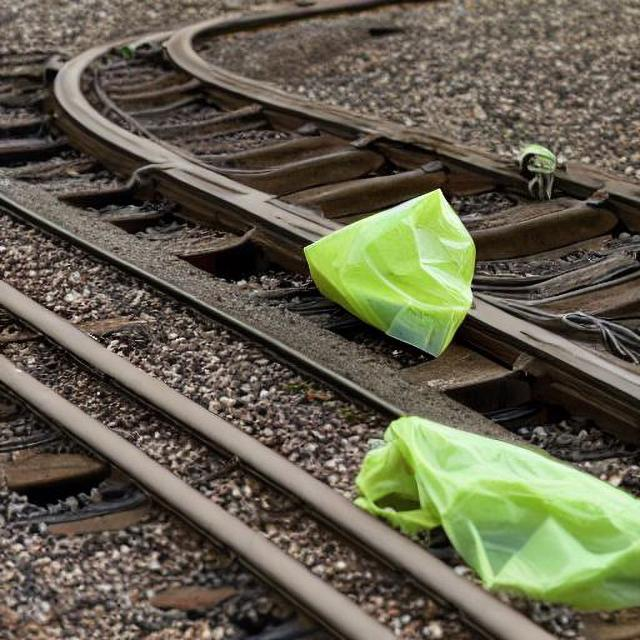plastic bag: (356, 408, 632, 606), (303, 182, 478, 353)
